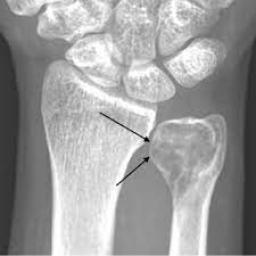cancer: (150, 114, 226, 200)
